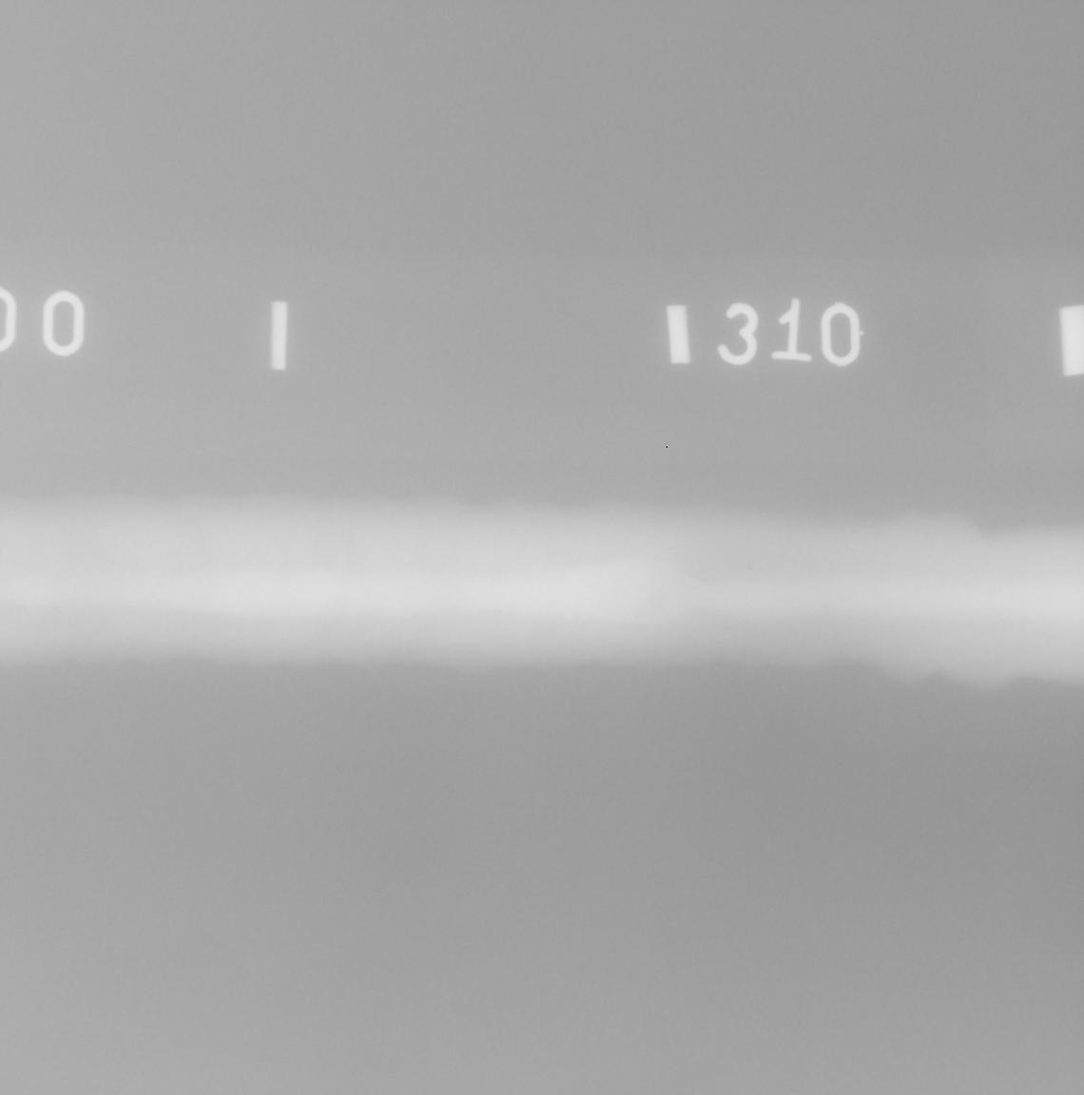Pore/Porosity: (748, 564, 752, 570), (495, 611, 501, 613)
